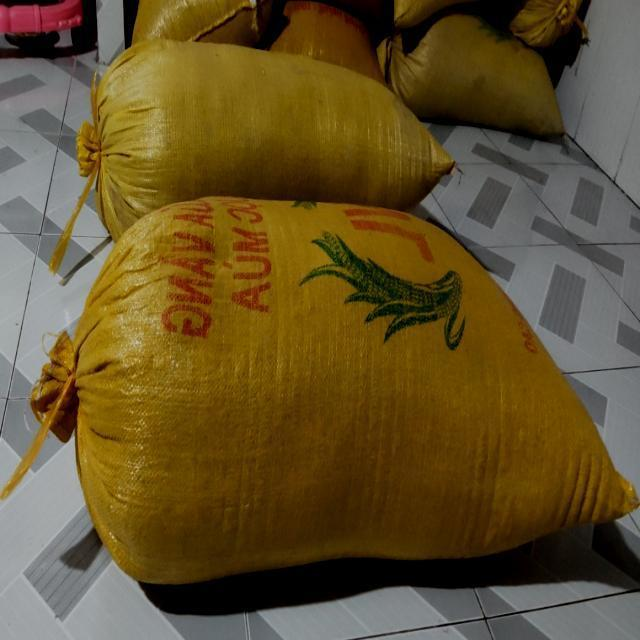gunny_bag: (33, 196, 638, 584), (49, 38, 454, 271)
